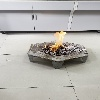fire: (44, 31, 66, 55)
